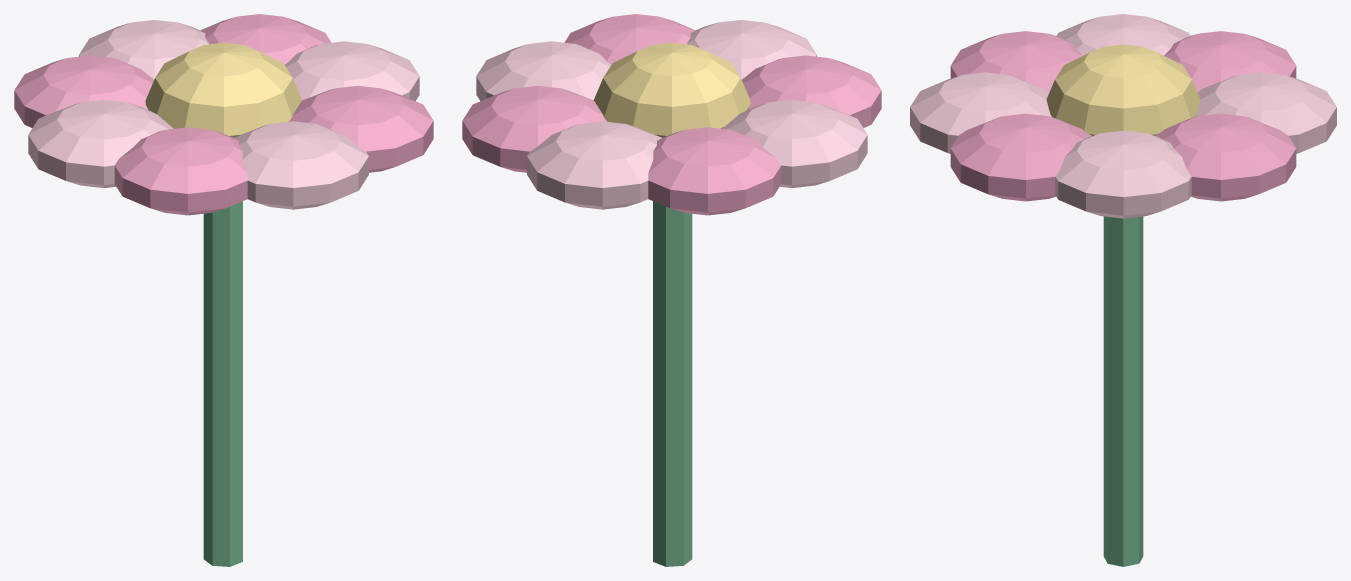
Rendered from flor_abierta.glb.
3 renders of one model, left to right at view 1: azimuth 30°, elevation 25°; view 2: azimuth 150°, elevation 25°; view 3: azimuth 270°, elevation 25°, orthographic.
Visible parts, largest first — view 1: flor_abierta; view 2: flor_abierta; view 3: flor_abierta.
Part boxes in pixels (left/top/right/bottom): flor_abierta: left=14, top=14, right=433, bottom=566; flor_abierta: left=462, top=14, right=881, bottom=566; flor_abierta: left=910, top=14, right=1336, bottom=566.
Size of the model in its own units: 2.32 by 3.02 by 2.32.
